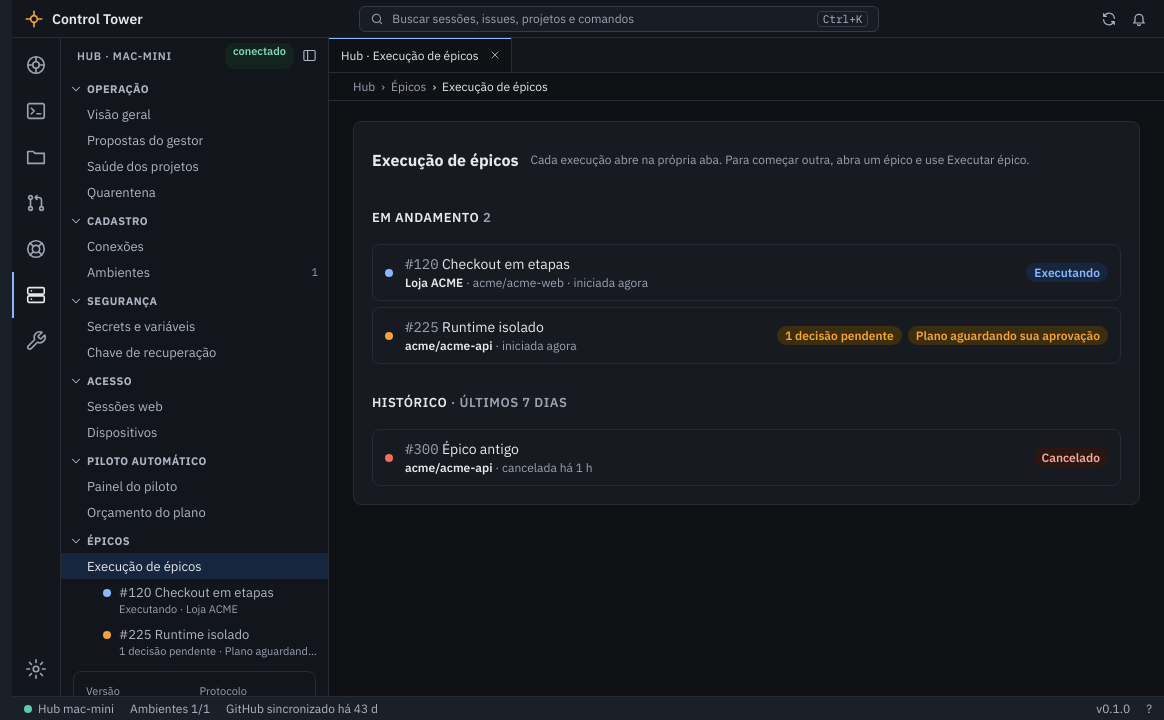
Test: índice e árvore do Hub: cada execução é um item que abre a própria aba
Expected: the text "Runtime isolado" is shown, [442, 318, 544, 336]
Expected: the text "Loja ACME" is shown, [405, 275, 463, 290]
Click the button with aria-label "Épico #225 Runtime isolado" at [208, 642], box [95, 621, 322, 663]
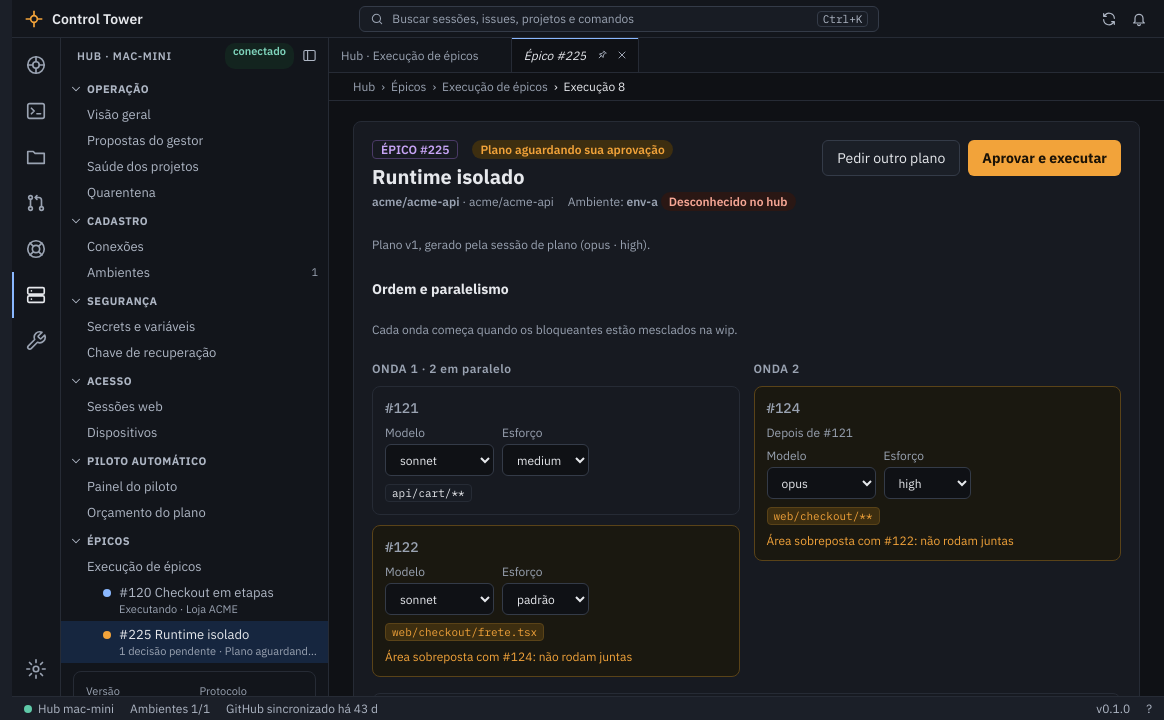
Expected: the text named "Estado da execução" reads "Plano aguardando sua aprovação", [480, 142, 665, 157]
Result: the tab "Épico #225" is shown at [512, 38, 592, 72]
